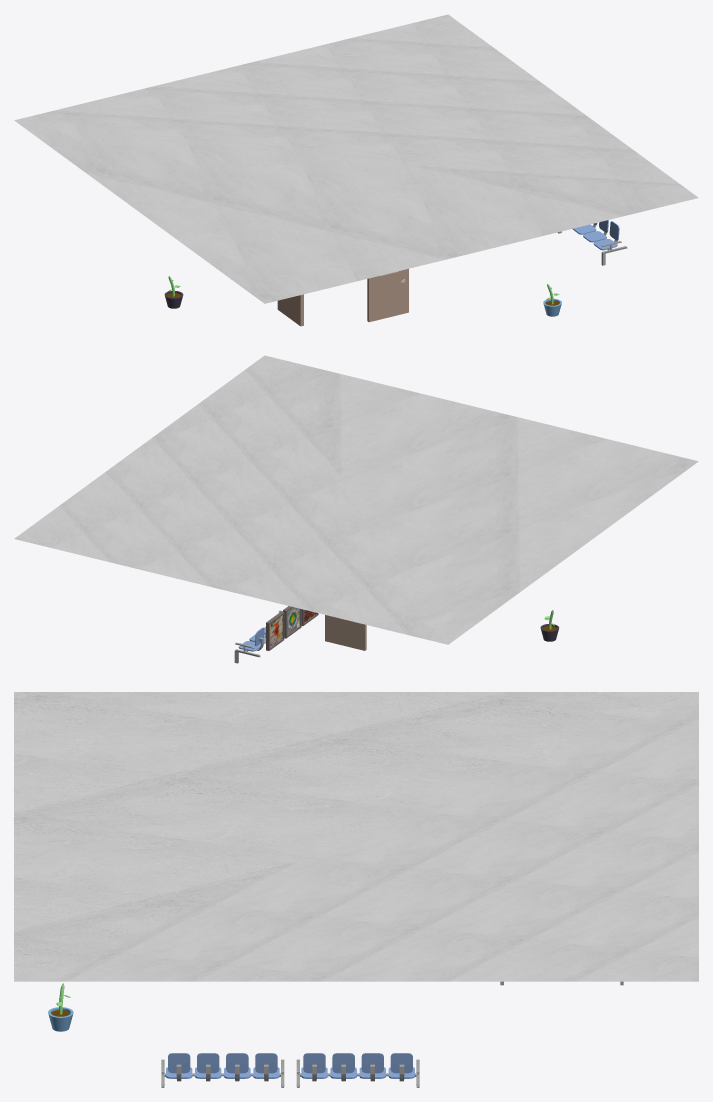
File: door.glb
3 renders of one model, top to bottom at view 1: azimuth 30°, elevation 25°; view 2: azimuth 150°, elevation 25°; view 3: azimuth 270°, elevation 25°, orthographic. The views are drawn at different scales.
Parts seen in each view (by area): view 1: Cube.009, Plane.002, Cube.010, Plane.003; view 2: Cube.009, Plane.001, Cube.003, Cube.011, Cube.002; view 3: Cube.009, Cube.010, Cylinder.001.
Boxes of the visible parts, <box> form: Cube.009: <box>14,14,698,303</box>; Plane.002: <box>367,268,408,322</box>; Cube.010: <box>557,220,627,265</box>; Plane.003: <box>277,294,303,326</box>; Cube.009: <box>14,355,698,644</box>; Plane.001: <box>325,615,366,650</box>; Cube.003: <box>266,611,284,650</box>; Cube.011: <box>234,610,282,663</box>; Cube.002: <box>283,606,301,638</box>; Cube.009: <box>14,692,698,981</box>; Cube.010: <box>161,1053,419,1087</box>; Cylinder.001: <box>48,983,73,1031</box>.
Bounding box in the file's own units: 32.76 × 7.55 × 32.76.
14 materials, 4 textured.
